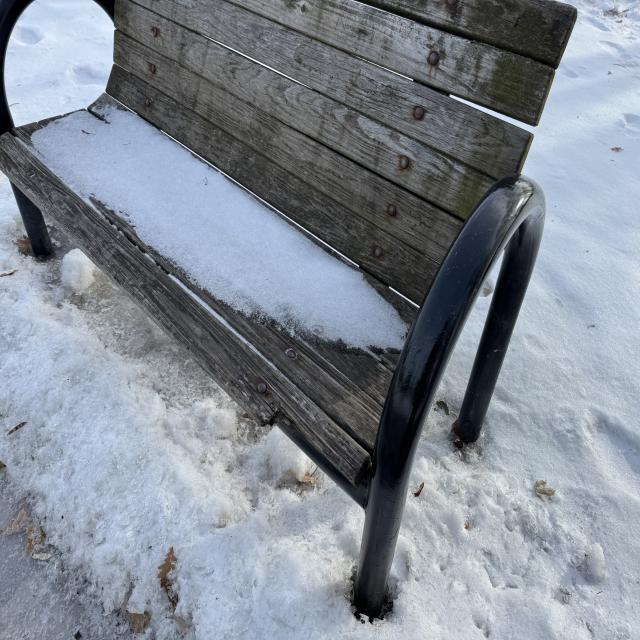Bench: (237, 4, 578, 583), (2, 1, 234, 389)
